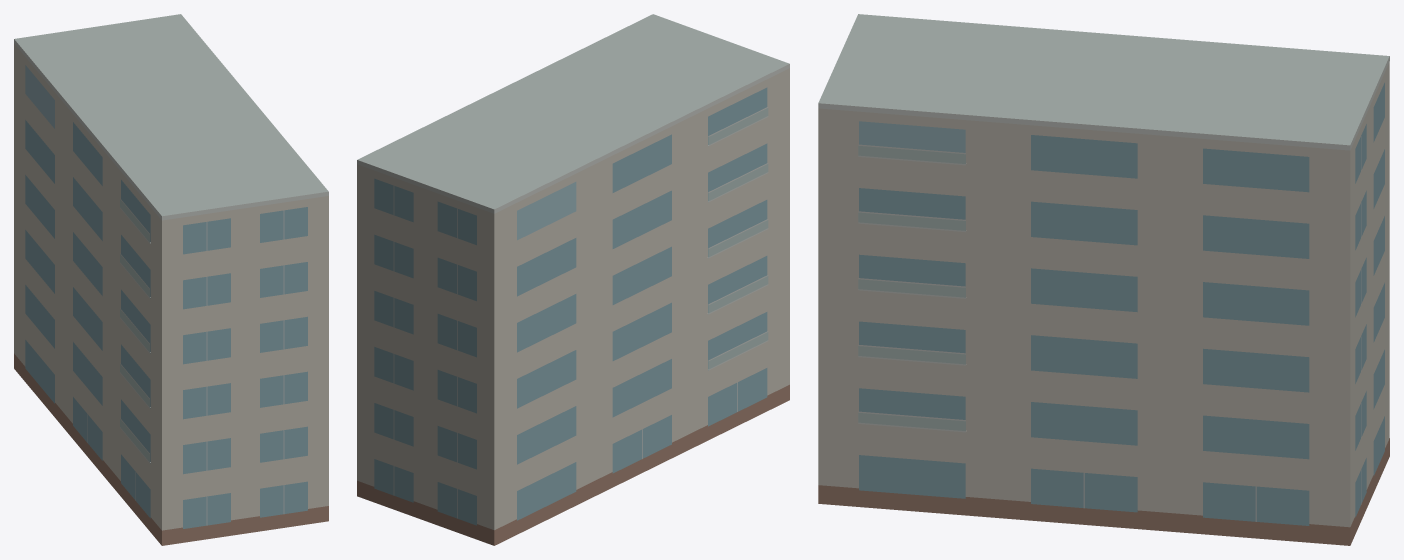
The model's file is survey-upis-32793618.glb.
3 views of the same model, side by side, from view 1: azimuth 30°, elevation 25°; view 2: azimuth 150°, elevation 25°; view 3: azimuth 270°, elevation 25° (orthographic). The views are drawn at different scales.
Visible parts, largest first — view 1: survey-upis-32793618.tmp; view 2: survey-upis-32793618.tmp; view 3: survey-upis-32793618.tmp.
Part boxes in pixels (x1,y1,x2,y2): survey-upis-32793618.tmp: (14, 14, 328, 545); survey-upis-32793618.tmp: (357, 14, 789, 545); survey-upis-32793618.tmp: (818, 14, 1389, 545).
Bounding box in the file's own units: 13.23 × 18.8 × 24.32.
